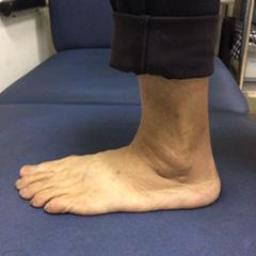Lateral View -Left Foot-: (11, 108, 225, 224)
